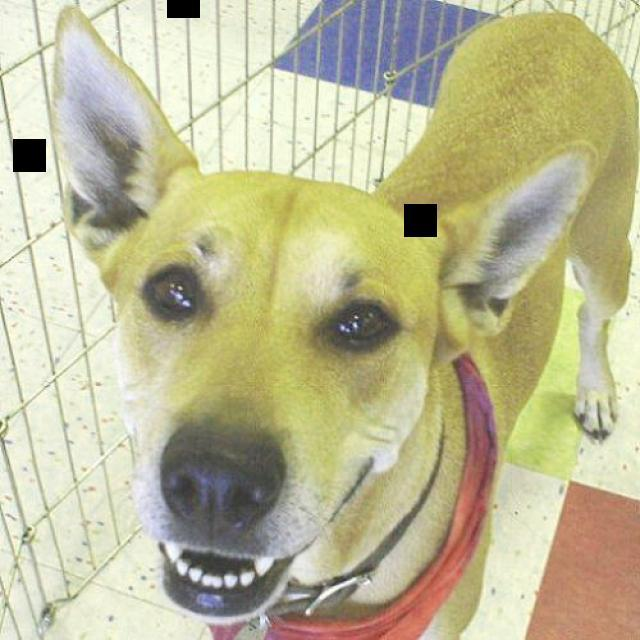adult_dog: (48, 2, 637, 632)
